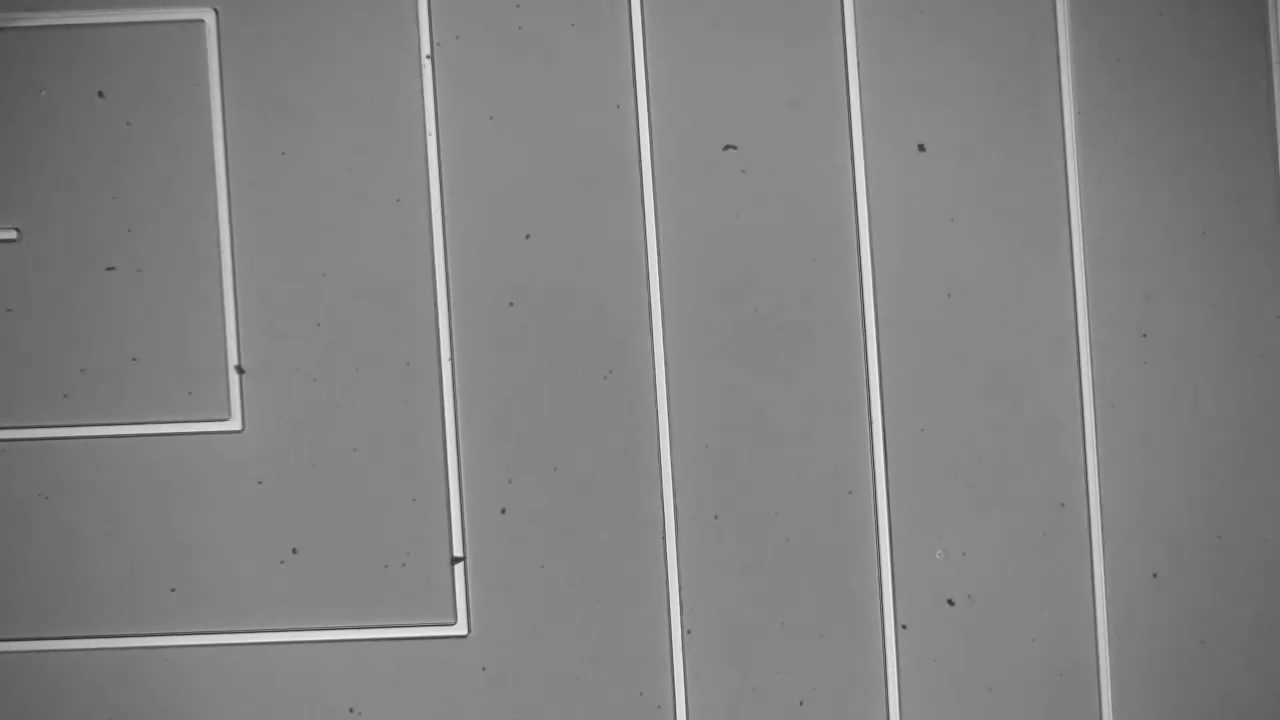stains_enbedded: (220, 356, 255, 381), (447, 544, 474, 572)
